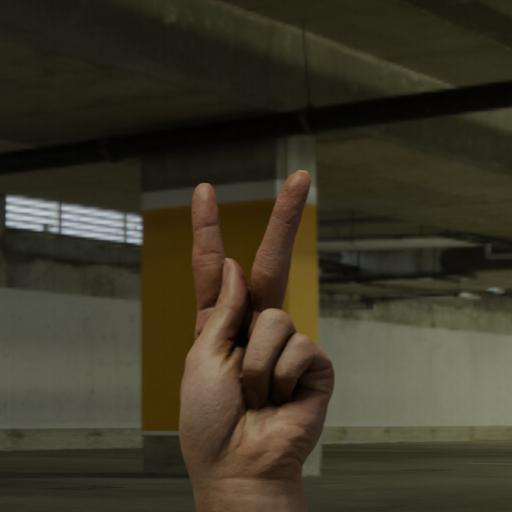K: (176, 165, 336, 482)
